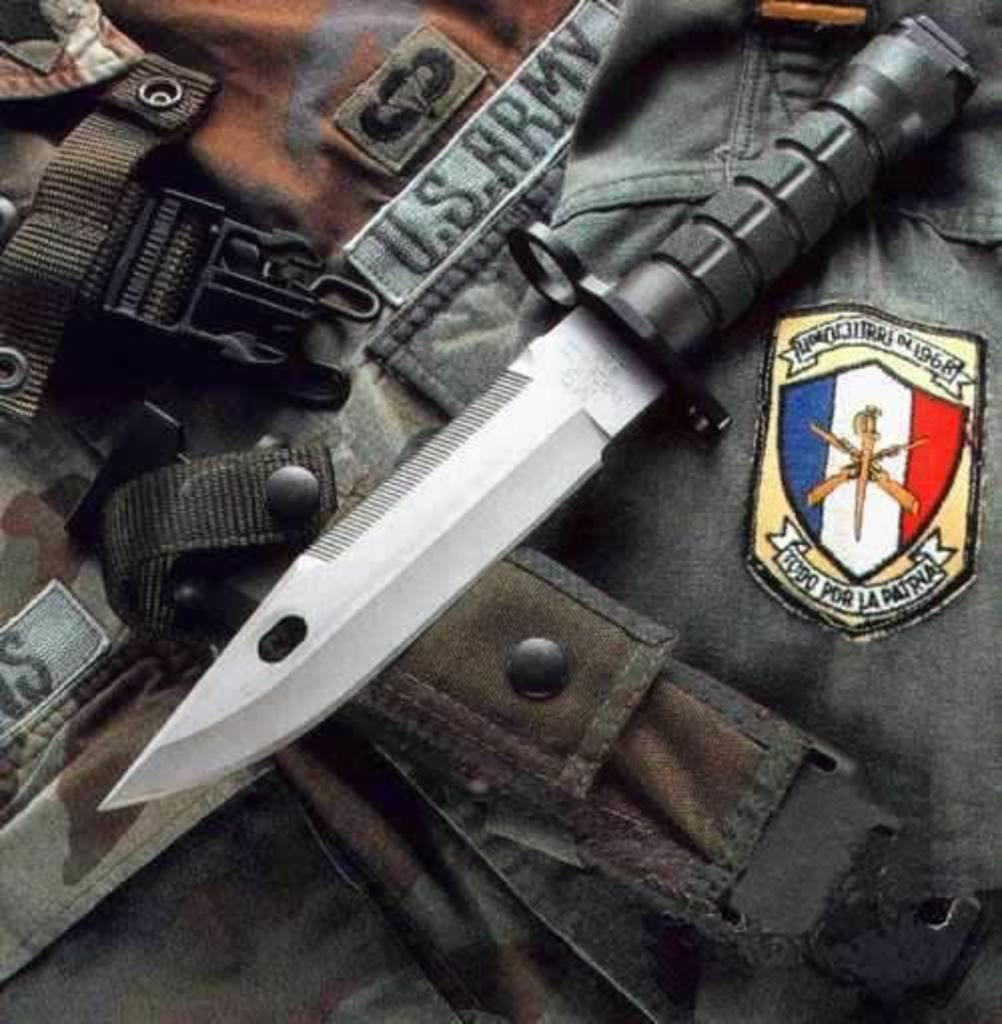Knife: (96, 10, 980, 814)
